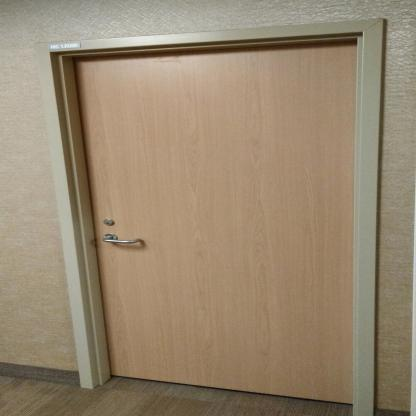door: (62, 36, 366, 390)
lever: (105, 235, 139, 248)
